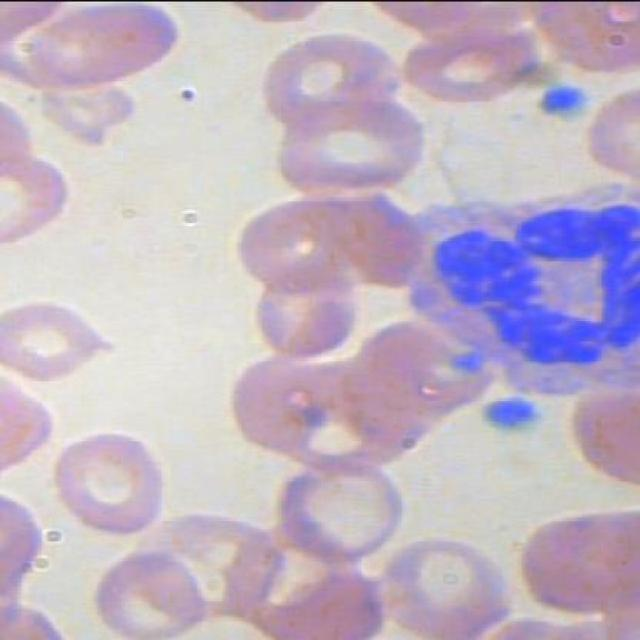Platelets: (526, 75, 594, 119), (485, 393, 543, 433)
RBC: (269, 446, 414, 572), (279, 84, 424, 210), (261, 15, 405, 140), (12, 1, 185, 102), (374, 522, 523, 638), (512, 497, 638, 626), (52, 424, 166, 539), (405, 22, 550, 108), (251, 259, 363, 361), (89, 542, 205, 638), (2, 300, 122, 383), (1, 151, 78, 255)
WBC: (403, 182, 639, 398)
